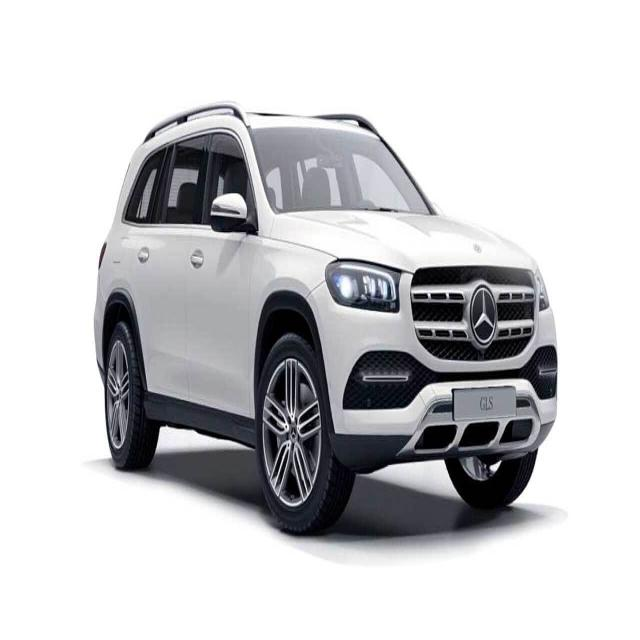car: (90, 108, 563, 546)
